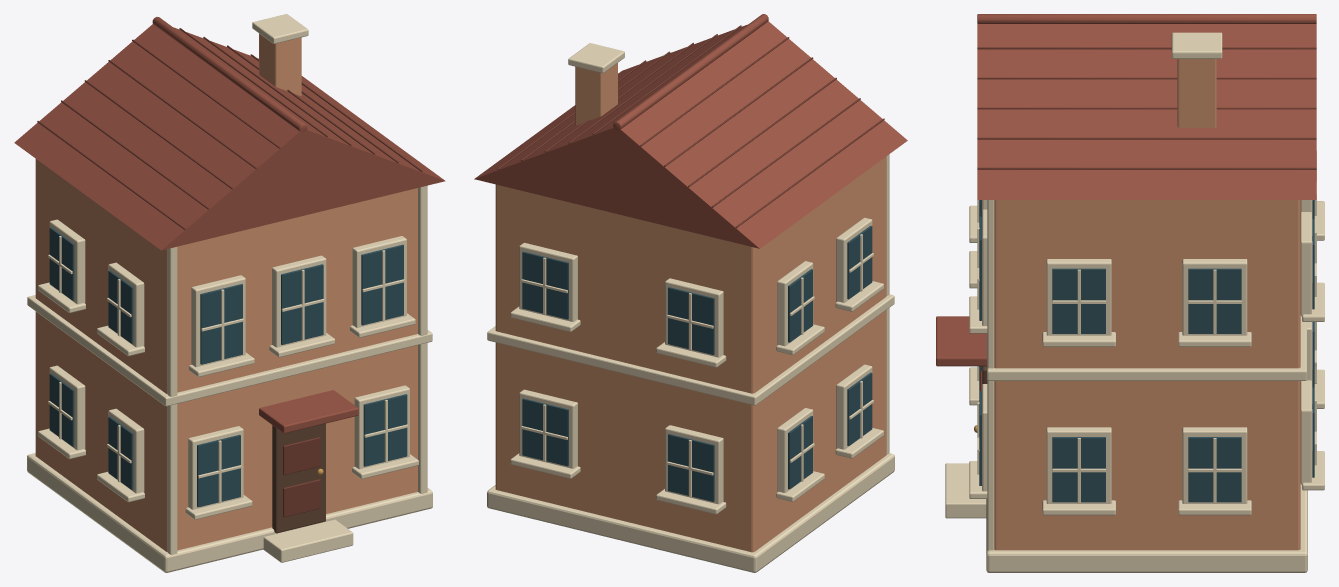
Rendered from house_townhouse.glb.
The picture shows the model from 3 angles, left to right: view 1: azimuth 30°, elevation 25°; view 2: azimuth 150°, elevation 25°; view 3: azimuth 270°, elevation 25°; orthographic projection. The views are drawn at different scales.
Visible parts, largest first — view 1: Plaster walls.001, Gabled terracotta roof.001, Foundation.001, Floor cornice, Corner trim.002, Front door.001, Corner trim.003, Window glass.023, Window glass.024, Window glass.022, Door canopy, Window glass.008 (+29 smaller); view 2: Plaster walls.001, Gabled terracotta roof.001, Foundation.001, Floor cornice, Window glass.020, Window glass.014, Window glass.021, Window glass.015, Chimney.001, Ridge cap.001, Window surround.020, Window surround.014 (+20 smaller); view 3: Plaster walls.001, Gabled terracotta roof.001, Foundation.001, Floor cornice, Ridge cap.001, Window glass.019, Window glass.013, Window glass.018, Window glass.012, Chimney.001, Corner trim.003, Door canopy (+21 smaller).
Part boxes in pixels (x1,y1,x2,y2): Plaster walls.001: (35,159,417,551); Gabled terracotta roof.001: (14,24,445,250); Foundation.001: (27,453,432,572); Floor cornice: (27,295,432,406); Corner trim.002: (167,247,177,554); Front door.001: (272,423,325,533); Corner trim.003: (418,185,427,493); Window glass.023: (281,264,323,344); Window glass.024: (361,244,403,325); Window glass.022: (200,284,242,364); Door canopy: (259,390,358,433); Window glass.008: (197,434,240,507); Plaster walls.001: (495,157,886,552); Gabled terracotta roof.001: (474,21,907,248); Foundation.001: (487,453,894,572); Floor cornice: (487,294,894,405); Window glass.020: (668,287,714,354); Window glass.014: (668,434,714,501); Window glass.021: (522,251,568,319); Window glass.015: (522,398,568,466); Chimney.001: (575,63,617,125); Ridge cap.001: (613,14,768,129); Window surround.020: (665,278,723,357); Window surround.014: (665,425,723,504); Plaster walls.001: (994,200,1300,550); Gabled terracotta roof.001: (977,23,1316,199); Foundation.001: (986,484,1307,572); Floor cornice: (987,315,1306,380); Ridge cap.001: (977,14,1316,23); Window glass.019: (1188,268,1241,333); Window glass.013: (1188,437,1241,502); Window glass.018: (1052,268,1105,333); Window glass.012: (1052,437,1105,502); Chimney.001: (1177,59,1216,127); Corner trim.003: (987,200,994,550); Door canopy: (936,316,986,366).
Bounding box in the file's own units: 5.48 × 7.68 × 5.44.
